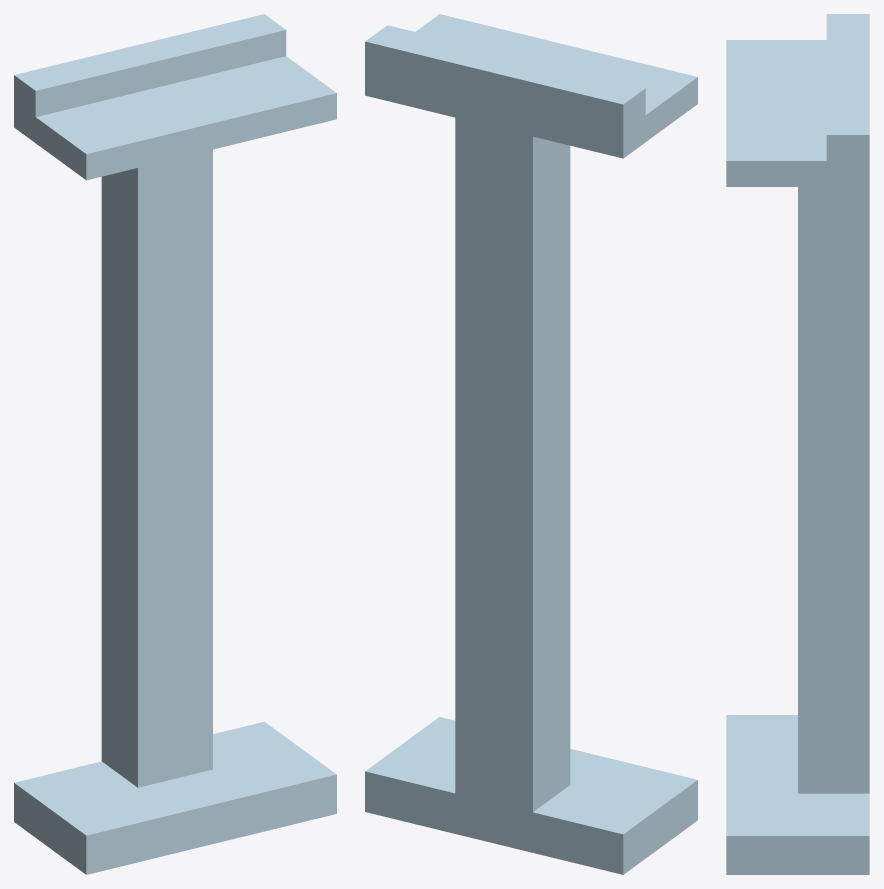
The model's file is Part Studio 1 - Part 1.gltf.
The picture shows the model from 3 angles, left to right: view 1: azimuth 30°, elevation 25°; view 2: azimuth 150°, elevation 25°; view 3: azimuth 270°, elevation 25°; orthographic projection. The views are drawn at different scales.
Visible parts, largest first — view 1: Part 1; view 2: Part 1; view 3: Part 1.
Boxes of the visible parts, <box> form: Part 1: <box>14,14,336,874</box>; Part 1: <box>365,14,697,874</box>; Part 1: <box>726,14,869,874</box>.
Size of the model in its own units: 0.02 by 0.057 by 0.01.
